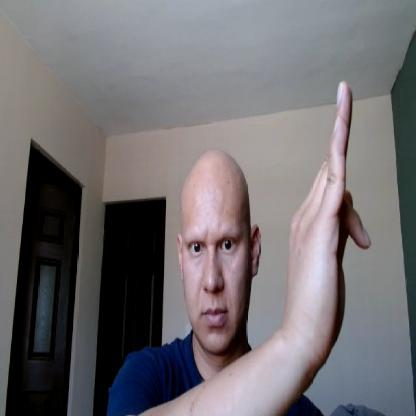F: (285, 83, 371, 365)
